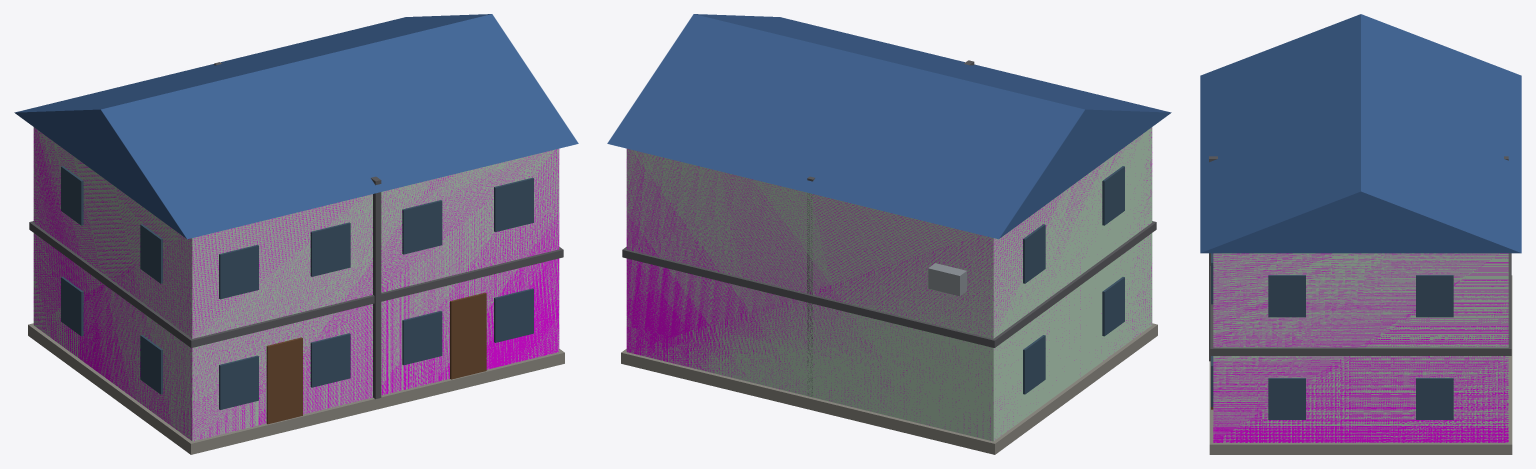
File: Rowhouse_2S_02.glb
The picture shows the model from 3 angles, left to right: view 1: azimuth 30°, elevation 25°; view 2: azimuth 150°, elevation 25°; view 3: azimuth 270°, elevation 25°; orthographic projection. The views are drawn at different scales.
Visible parts, largest first — view 1: Rowhouse_2S_02, Rowhouse_2S_02_COL; view 2: Rowhouse_2S_02, Rowhouse_2S_02_COL; view 3: Rowhouse_2S_02, Rowhouse_2S_02_COL.
Part boxes in pixels (x1,y1,x2,y2): Rowhouse_2S_02: (14,14,578,454); Rowhouse_2S_02_COL: (33,128,559,440); Rowhouse_2S_02: (607,14,1171,454); Rowhouse_2S_02_COL: (626,128,1152,440); Rowhouse_2S_02: (1200,14,1521,454); Rowhouse_2S_02_COL: (1213,253,1508,442).
Bounding box in the file's own units: 11.1 × 7.8 × 8.5.
